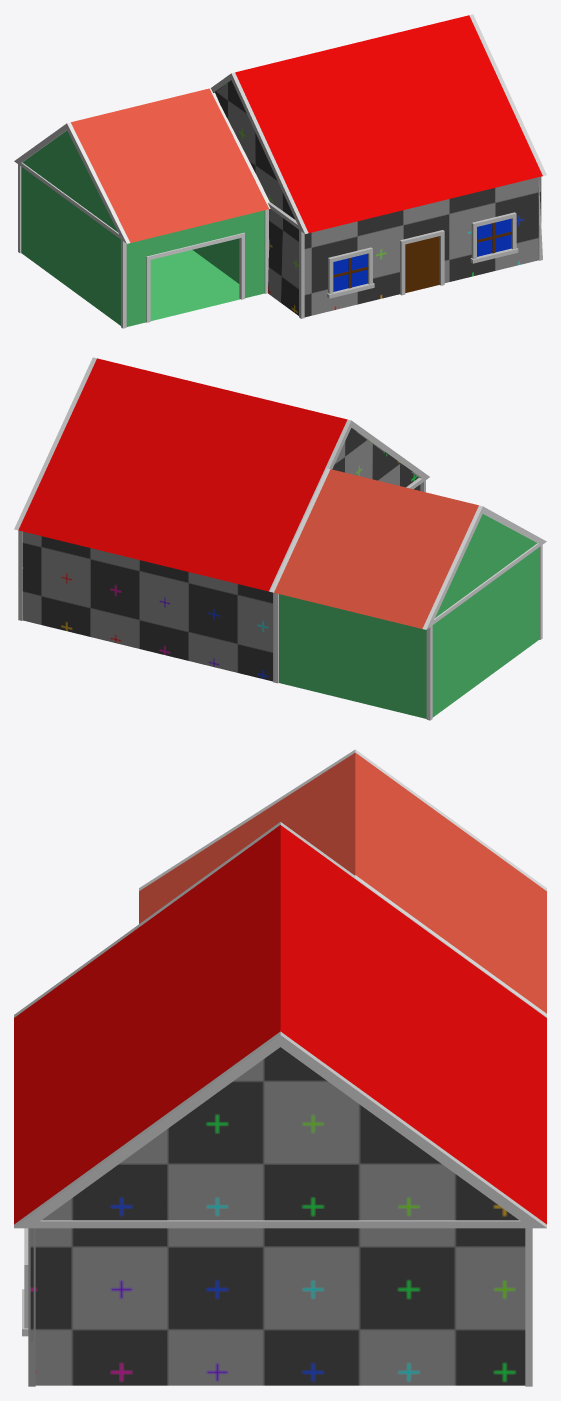
File: Casas.fbx
3 renders of one model, top to bottom at view 1: azimuth 30°, elevation 25°; view 2: azimuth 150°, elevation 25°; view 3: azimuth 270°, elevation 25°, orthographic. The views are drawn at different scales.
Parts seen in each view (by area): view 1: casa_1, garagem_1; view 2: casa_1, garagem_1; view 3: casa_1, garagem_1.
Boxes of the visible parts, x1,y1,x2,y2 form: casa_1: [211, 14, 546, 318]; garagem_1: [14, 88, 270, 328]; casa_1: [14, 357, 429, 682]; garagem_1: [270, 468, 546, 720]; casa_1: [14, 822, 546, 1386]; garagem_1: [139, 749, 546, 1016].
Size of the model in its own units: 3220 by 1554 by 2134.
8 materials, 1 textured.
